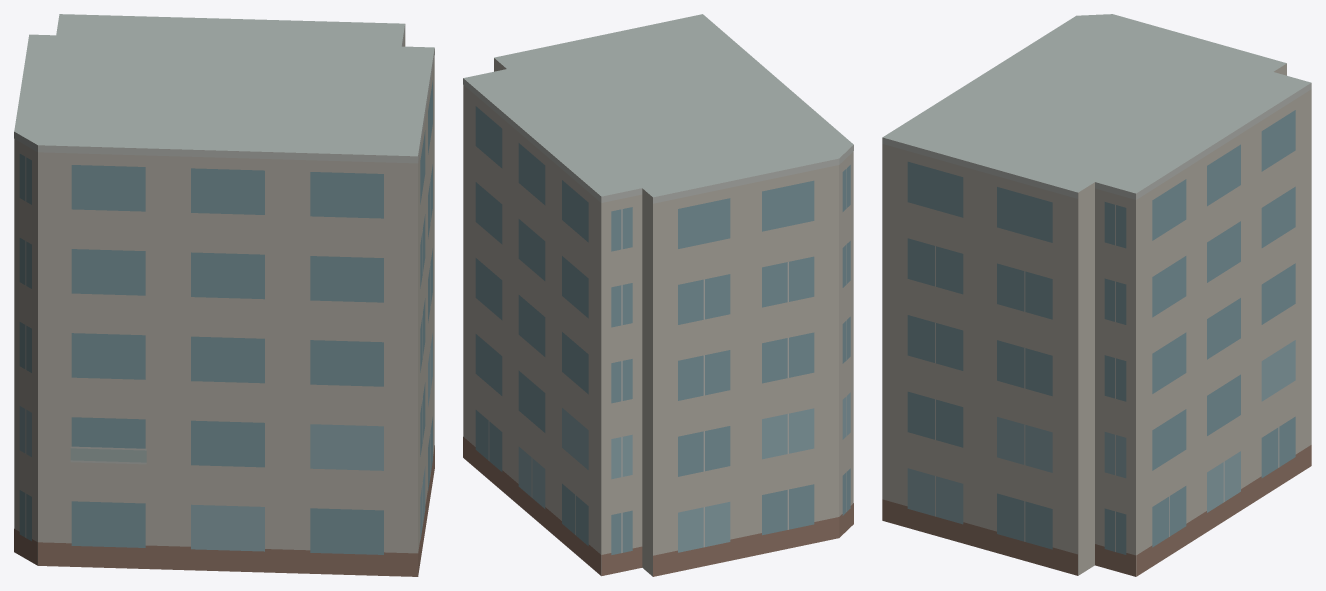
File: survey-upis-32746468.glb
3 renders of one model, left to right at view 1: azimuth 30°, elevation 25°; view 2: azimuth 150°, elevation 25°; view 3: azimuth 270°, elevation 25°, orthographic. The views are drawn at different scales.
Parts seen in each view (by area): view 1: survey-upis-32746468.tmp; view 2: survey-upis-32746468.tmp; view 3: survey-upis-32746468.tmp.
Boxes of the visible parts, box(x1,y1,x2,y2) form: survey-upis-32746468.tmp: box(14, 14, 434, 576); survey-upis-32746468.tmp: box(463, 14, 853, 576); survey-upis-32746468.tmp: box(882, 14, 1311, 576).
Size of the model in its own units: 14.58 by 14.5 by 14.73.
